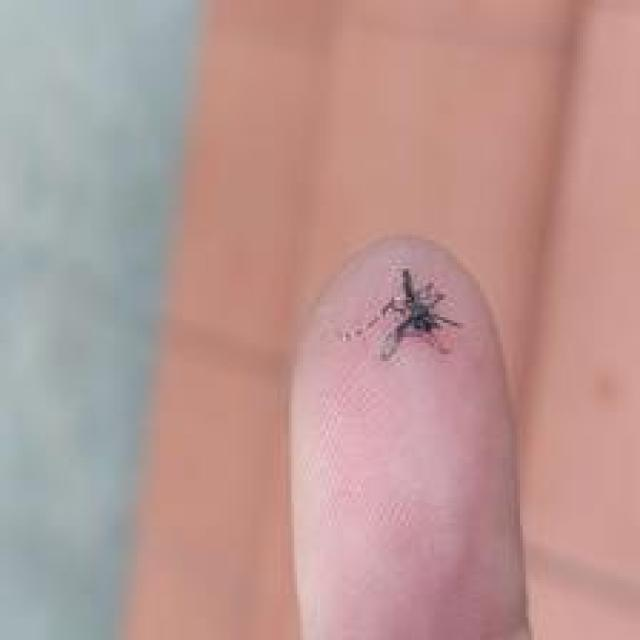Aedes albopictus: (342, 266, 464, 363)
